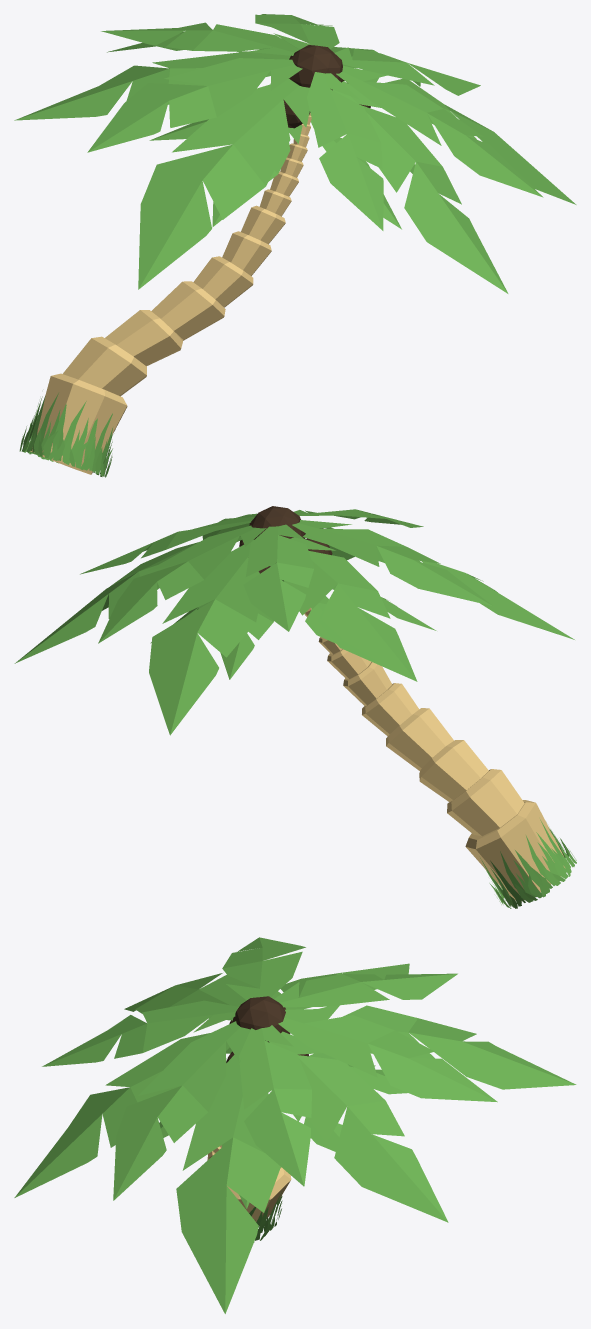
Rendered from palma2.gltf.
3 renders of one model, top to bottom at view 1: azimuth 30°, elevation 25°; view 2: azimuth 150°, elevation 25°; view 3: azimuth 270°, elevation 25°, orthographic. The views are drawn at different scales.
Visible parts, largest first — view 1: PALM 2; view 2: PALM 2; view 3: PALM 2.
Part boxes in pixels (x1,y1,x2,y2): PALM 2: [14, 14, 576, 477]; PALM 2: [14, 506, 576, 908]; PALM 2: [14, 937, 576, 1313].
Bounding box in the file's own units: 4.12 × 2.63 × 3.77.
